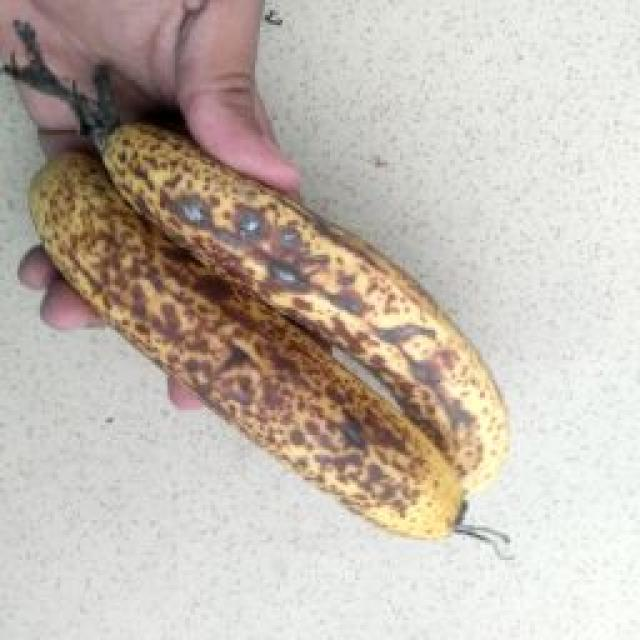banana: (45, 169, 558, 560)
